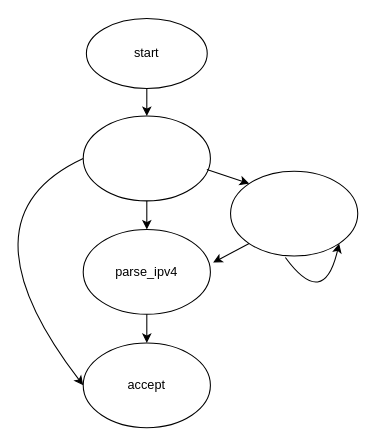
The diagram is 377 pixels wide and 446 high, and some of its shapes have lost their labels. Each missing label, with the box of its shape:
parse_ethernet: (82, 115, 210, 201)
parse_mpls: (229, 170, 358, 256)
